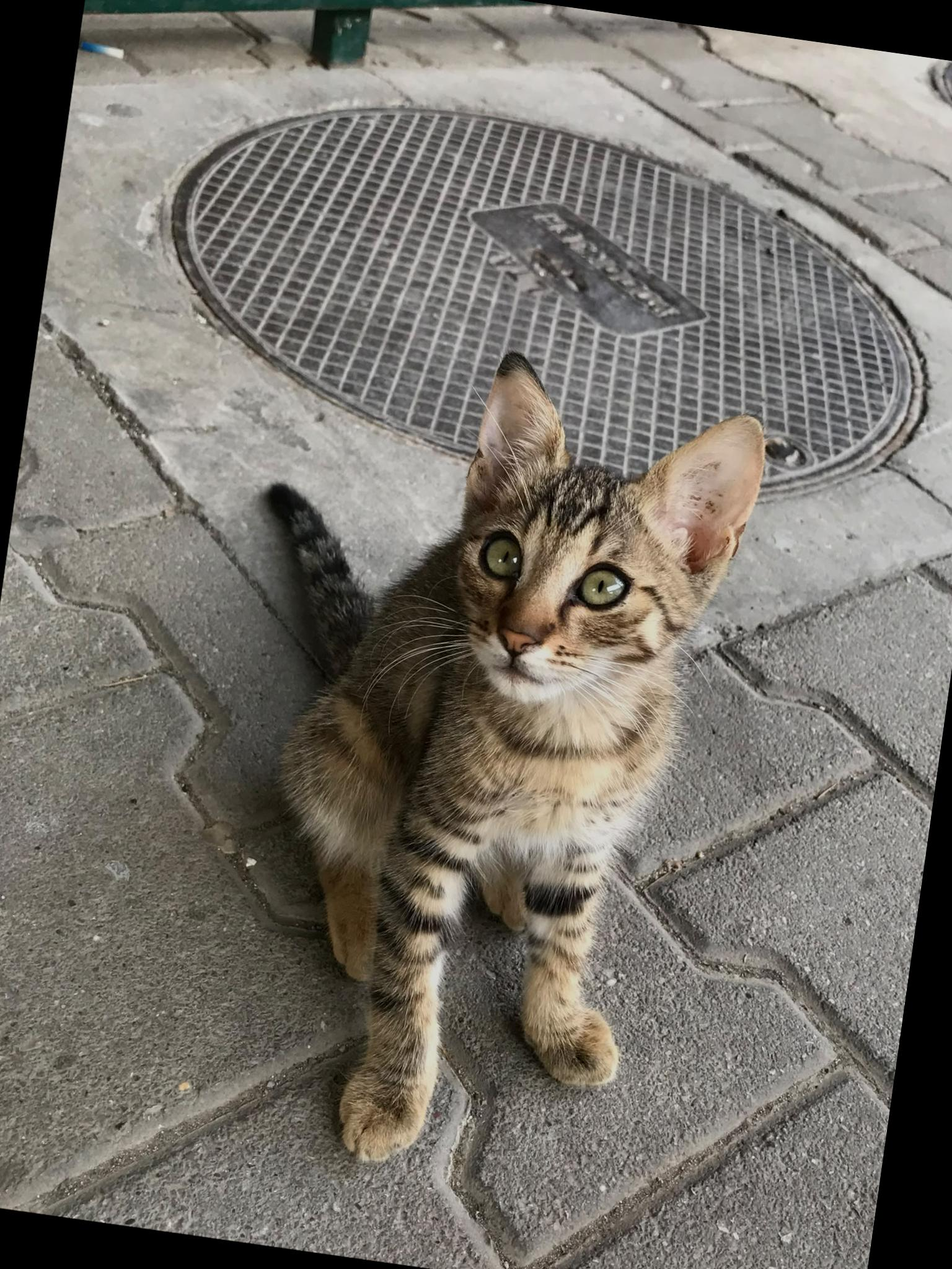macka: (171, 314, 782, 1210)
